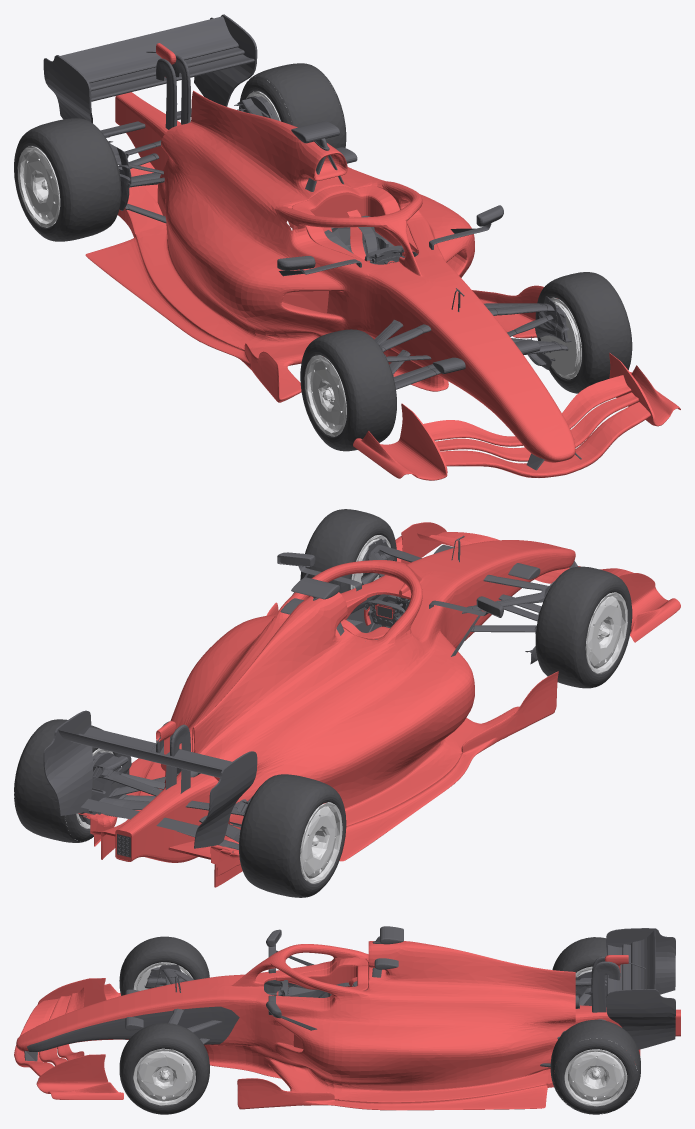
File: car_stl.glb
The picture shows the model from 3 angles, top to bottom: view 1: azimuth 30°, elevation 25°; view 2: azimuth 150°, elevation 25°; view 3: azimuth 270°, elevation 25°; orthographic projection. The views are drawn at different scales.
Visible parts, largest first — view 1: body, details, wheel_rear_l_tyre, wheel_front_l_tyre, wheel_front_r_tyre, wheel_rear_r_tyre, wheel_rear_l_rim, wheel_front_l_rim, wheel_front_r_rim; view 2: body, details, wheel_rear_l_tyre, wheel_front_l_tyre, wheel_rear_r_tyre, wheel_front_r_tyre, wheel_rear_l_rim, wheel_front_l_rim; view 3: body, details, wheel_rear_r_tyre, wheel_front_r_tyre, wheel_rear_r_rim, wheel_front_r_rim, wheel_front_l_tyre, wheel_rear_l_tyre, wheel_front_l_rim.
Boxes of the visible parts, x1,y1,x2,y2 form: body: [85, 43, 680, 480]; details: [43, 14, 581, 470]; wheel_rear_l_tyre: [14, 118, 121, 241]; wheel_front_l_tyre: [300, 329, 396, 451]; wheel_front_r_tyre: [535, 272, 632, 393]; wheel_rear_r_tyre: [239, 63, 346, 148]; wheel_rear_l_rim: [17, 146, 60, 227]; wheel_front_l_rim: [304, 355, 346, 436]; wheel_front_r_rim: [540, 297, 581, 379]; body: [78, 522, 680, 887]; details: [43, 535, 577, 857]; wheel_rear_l_tyre: [239, 774, 346, 897]; wheel_front_l_tyre: [535, 566, 632, 688]; wheel_rear_r_tyre: [14, 719, 121, 842]; wheel_front_r_tyre: [300, 509, 396, 596]; wheel_rear_l_rim: [300, 802, 342, 883]; wheel_front_l_rim: [585, 592, 627, 673]; body: [14, 941, 680, 1110]; details: [24, 926, 675, 1067]; wheel_rear_r_tyre: [550, 1019, 640, 1114]; wheel_front_r_tyre: [119, 1023, 209, 1114]; wheel_rear_r_rim: [564, 1038, 627, 1106]; wheel_front_r_rim: [133, 1048, 195, 1105]; wheel_front_l_tyre: [119, 936, 209, 995]; wheel_rear_l_tyre: [552, 937, 606, 972]; wheel_front_l_rim: [133, 962, 193, 990].
Size of the model in its own units: 1.97 by 1.17 by 5.27.
